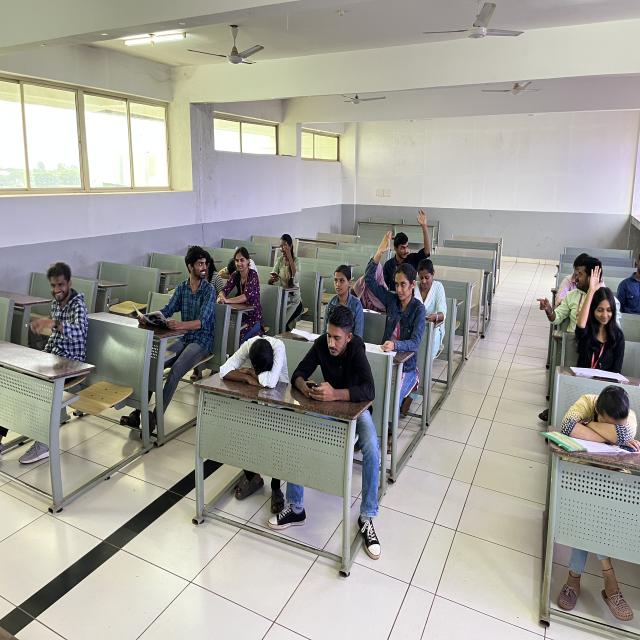Hand Rising: (362, 228, 422, 351), (574, 257, 629, 383), (395, 206, 435, 272)
Reading: (131, 235, 218, 357)
Sleeping: (552, 379, 640, 457), (216, 329, 297, 398)
